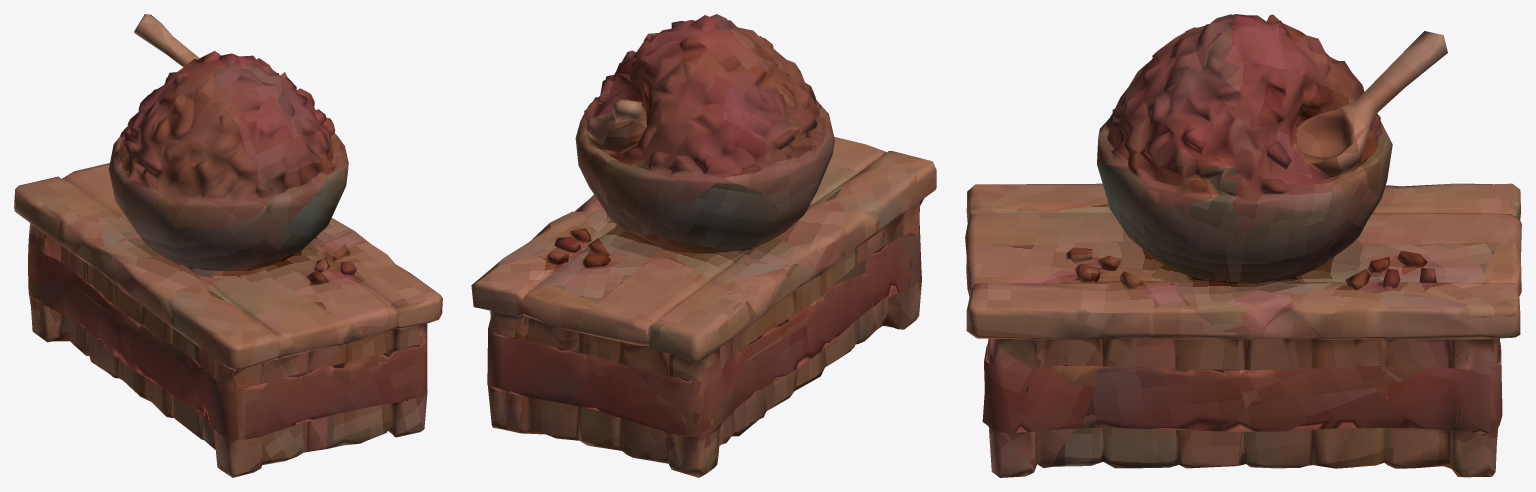
Rendered from KR_사물_s1_station_topping_t1.glb.
3 renders of one model, left to right at view 1: azimuth 30°, elevation 25°; view 2: azimuth 150°, elevation 25°; view 3: azimuth 270°, elevation 25°, orthographic. The views are drawn at different scales.
Visible parts, largest first — view 1: tripo_node_9b4cbc71-92ea-44b4-8cbd-88d1d87b4bec; view 2: tripo_node_9b4cbc71-92ea-44b4-8cbd-88d1d87b4bec; view 3: tripo_node_9b4cbc71-92ea-44b4-8cbd-88d1d87b4bec.
Part boxes in pixels (x1=…): tripo_node_9b4cbc71-92ea-44b4-8cbd-88d1d87b4bec: x1=14, y1=14, x2=442, y2=477; tripo_node_9b4cbc71-92ea-44b4-8cbd-88d1d87b4bec: x1=471, y1=14, x2=936, y2=477; tripo_node_9b4cbc71-92ea-44b4-8cbd-88d1d87b4bec: x1=965, y1=14, x2=1521, y2=477.
Bounding box in the file's own units: 0.5556 × 0.805 × 0.9978.
1 material, 1 textured.
